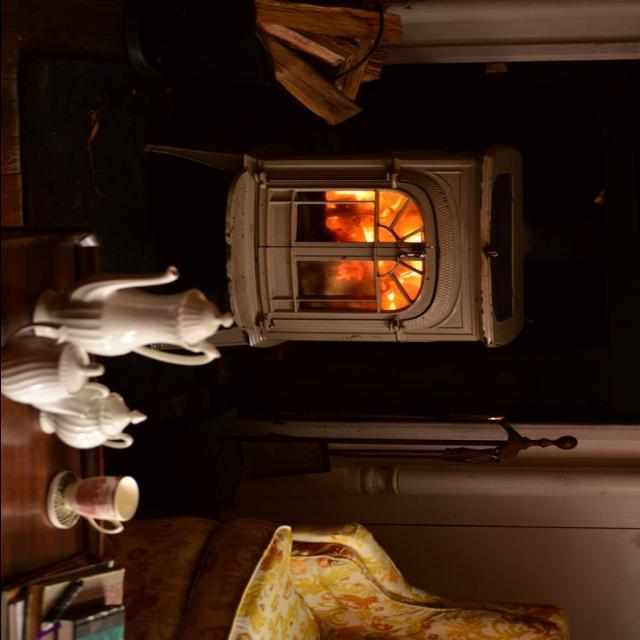Fire: (284, 192, 434, 312)
